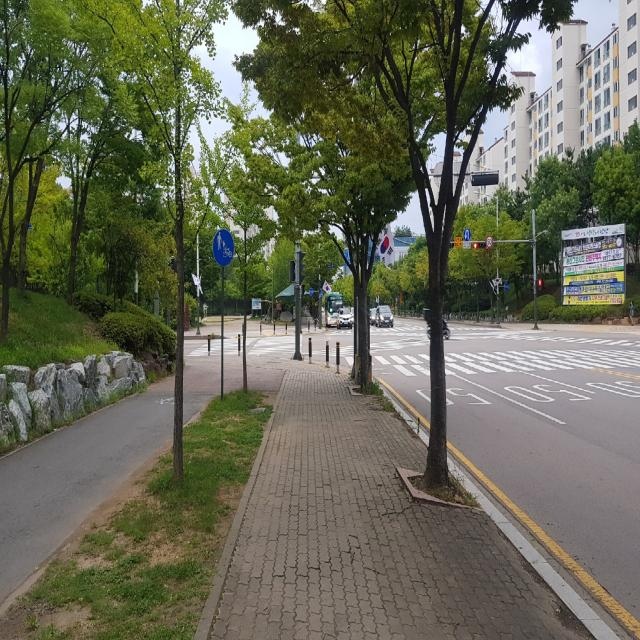빨간불: (538, 279, 542, 291)
횡단보도: (368, 350, 639, 370), (185, 334, 304, 357)
